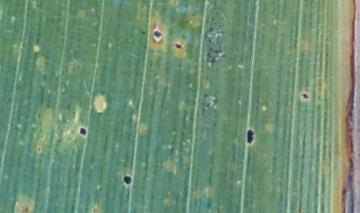tarspot: (245, 128, 255, 144), (122, 175, 132, 185), (78, 126, 87, 135), (153, 30, 162, 38), (300, 92, 309, 100), (174, 43, 182, 49), (140, 29, 147, 35), (36, 146, 42, 153), (36, 112, 42, 119)
